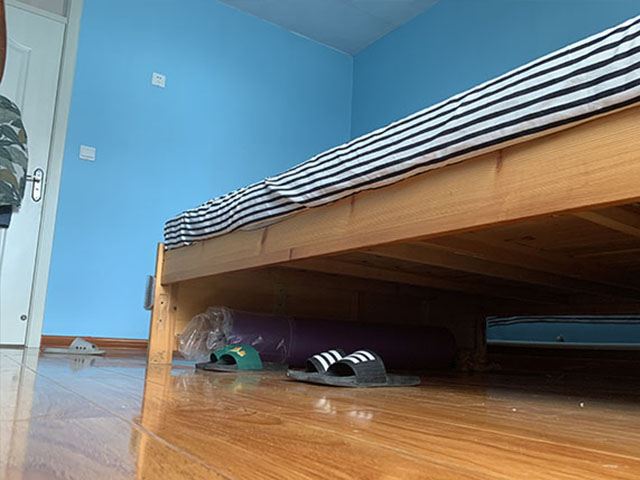bed: (141, 12, 640, 375)
slippers: (310, 351, 424, 389), (191, 341, 290, 373), (42, 333, 110, 356)
